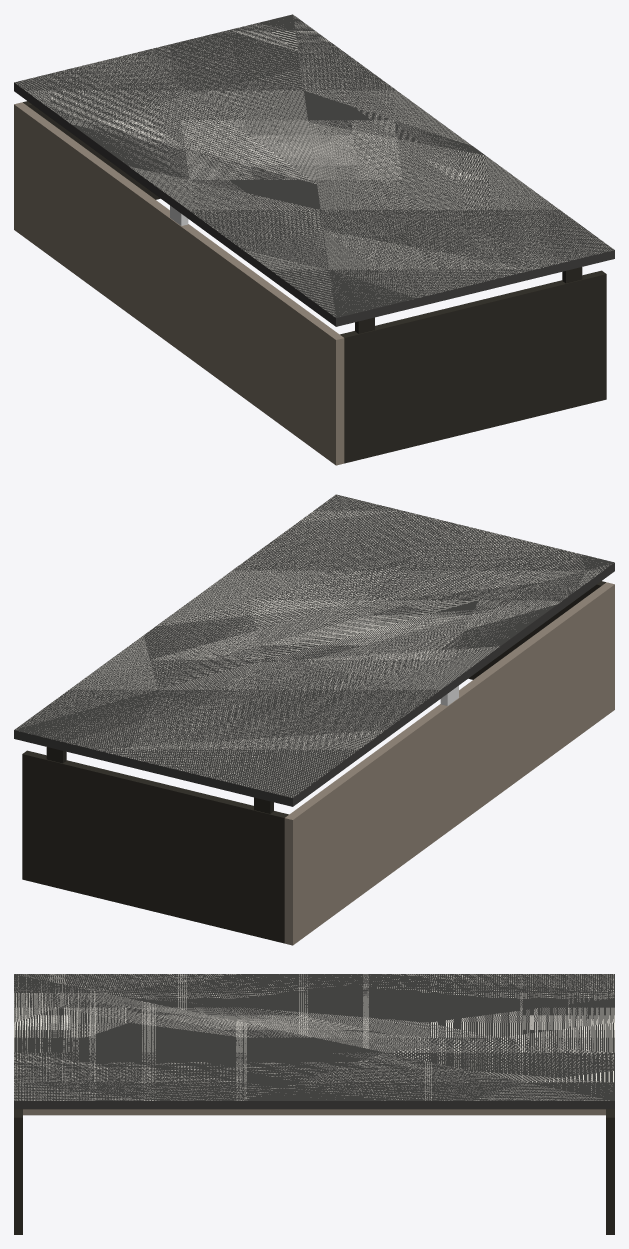
Rendered from table2.fbx.
3 renders of one model, top to bottom at view 1: azimuth 30°, elevation 25°; view 2: azimuth 150°, elevation 25°; view 3: azimuth 270°, elevation 25°, orthographic. The views are drawn at different scales.
Visible parts, largest first — view 1: Cube, 평면, 큐브.002, 큐브, 큐브.001; view 2: Cube, 평면, 큐브.002, 큐브.001, 큐브; view 3: Cube, 평면, 큐브.002, 큐브, 큐브.001.
Part boxes in pixels (box(x1,y1,x2,y2)): Cube: box(14, 14, 614, 326); 평면: box(15, 15, 612, 316); 큐브.002: box(14, 102, 344, 465); 큐브: box(340, 270, 606, 463); 큐브.001: box(23, 101, 160, 199); Cube: box(14, 494, 614, 806); 평면: box(16, 494, 614, 797); 큐브.002: box(284, 582, 614, 945); 큐브.001: box(22, 750, 288, 943); 큐브: box(468, 581, 605, 679); Cube: box(14, 974, 614, 1109); 평면: box(14, 974, 614, 1100); 큐브.002: box(23, 1109, 605, 1115); 큐브: box(14, 1109, 22, 1234); 큐브.001: box(606, 1109, 614, 1234).
Bounding box in the file's own units: 200 × 101 × 400.
